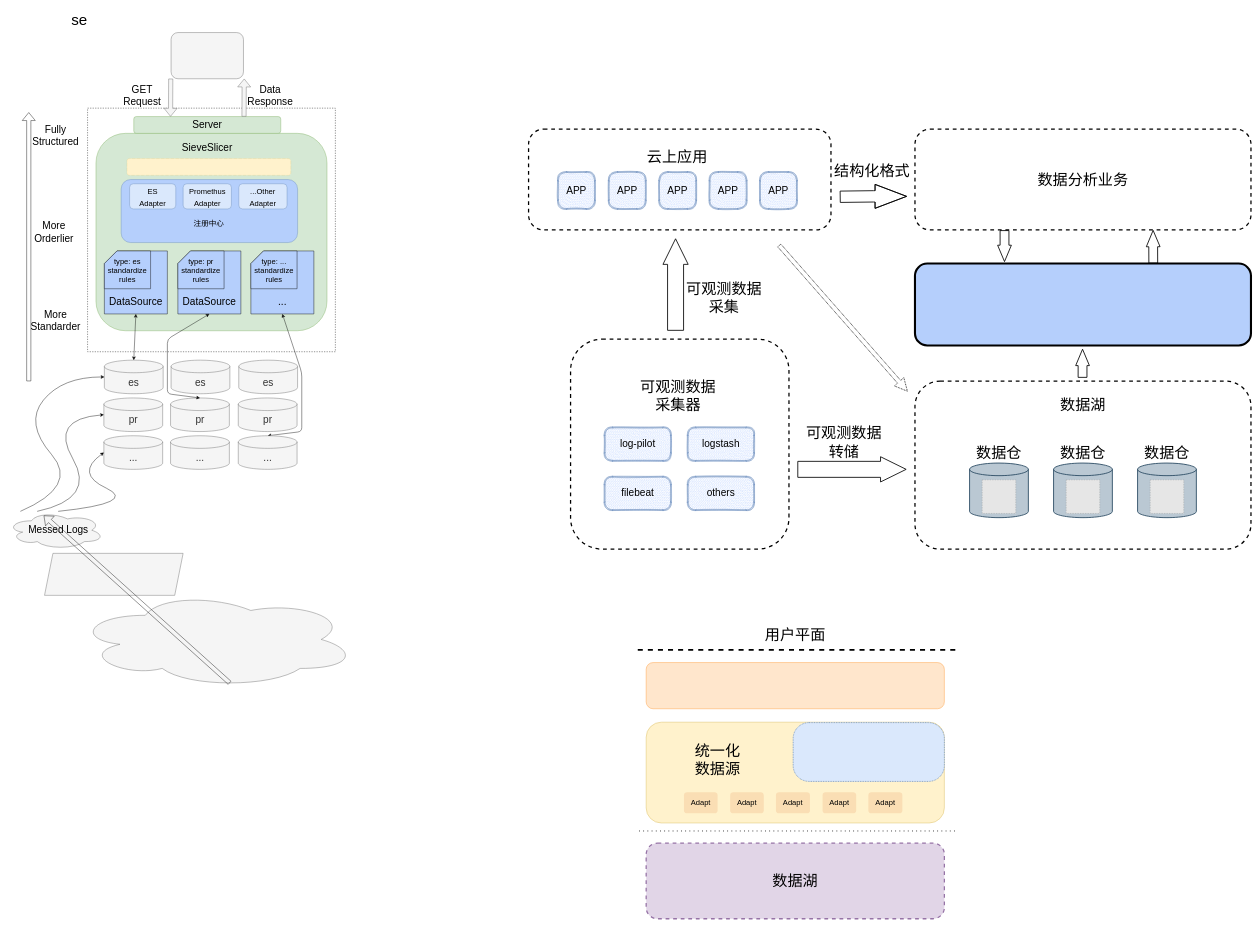
Image size: 1260x927. Some labels were removed from this diagram. Grey dashed boxes stand in for pictures. The box of each missing label's shape, as (x1, y1, x2, y2) in pixels:
Filter（清除冗余）: (127, 158, 291, 175)
Messed Files、Stdout、Events...: (75, 591, 356, 688)
Messed logstash、 otherCollectors: (44, 553, 183, 595)
处理链: (793, 722, 945, 782)
服务前端: (646, 662, 944, 709)
用户: (171, 32, 243, 79)
统一日志平台: (914, 262, 1252, 346)
